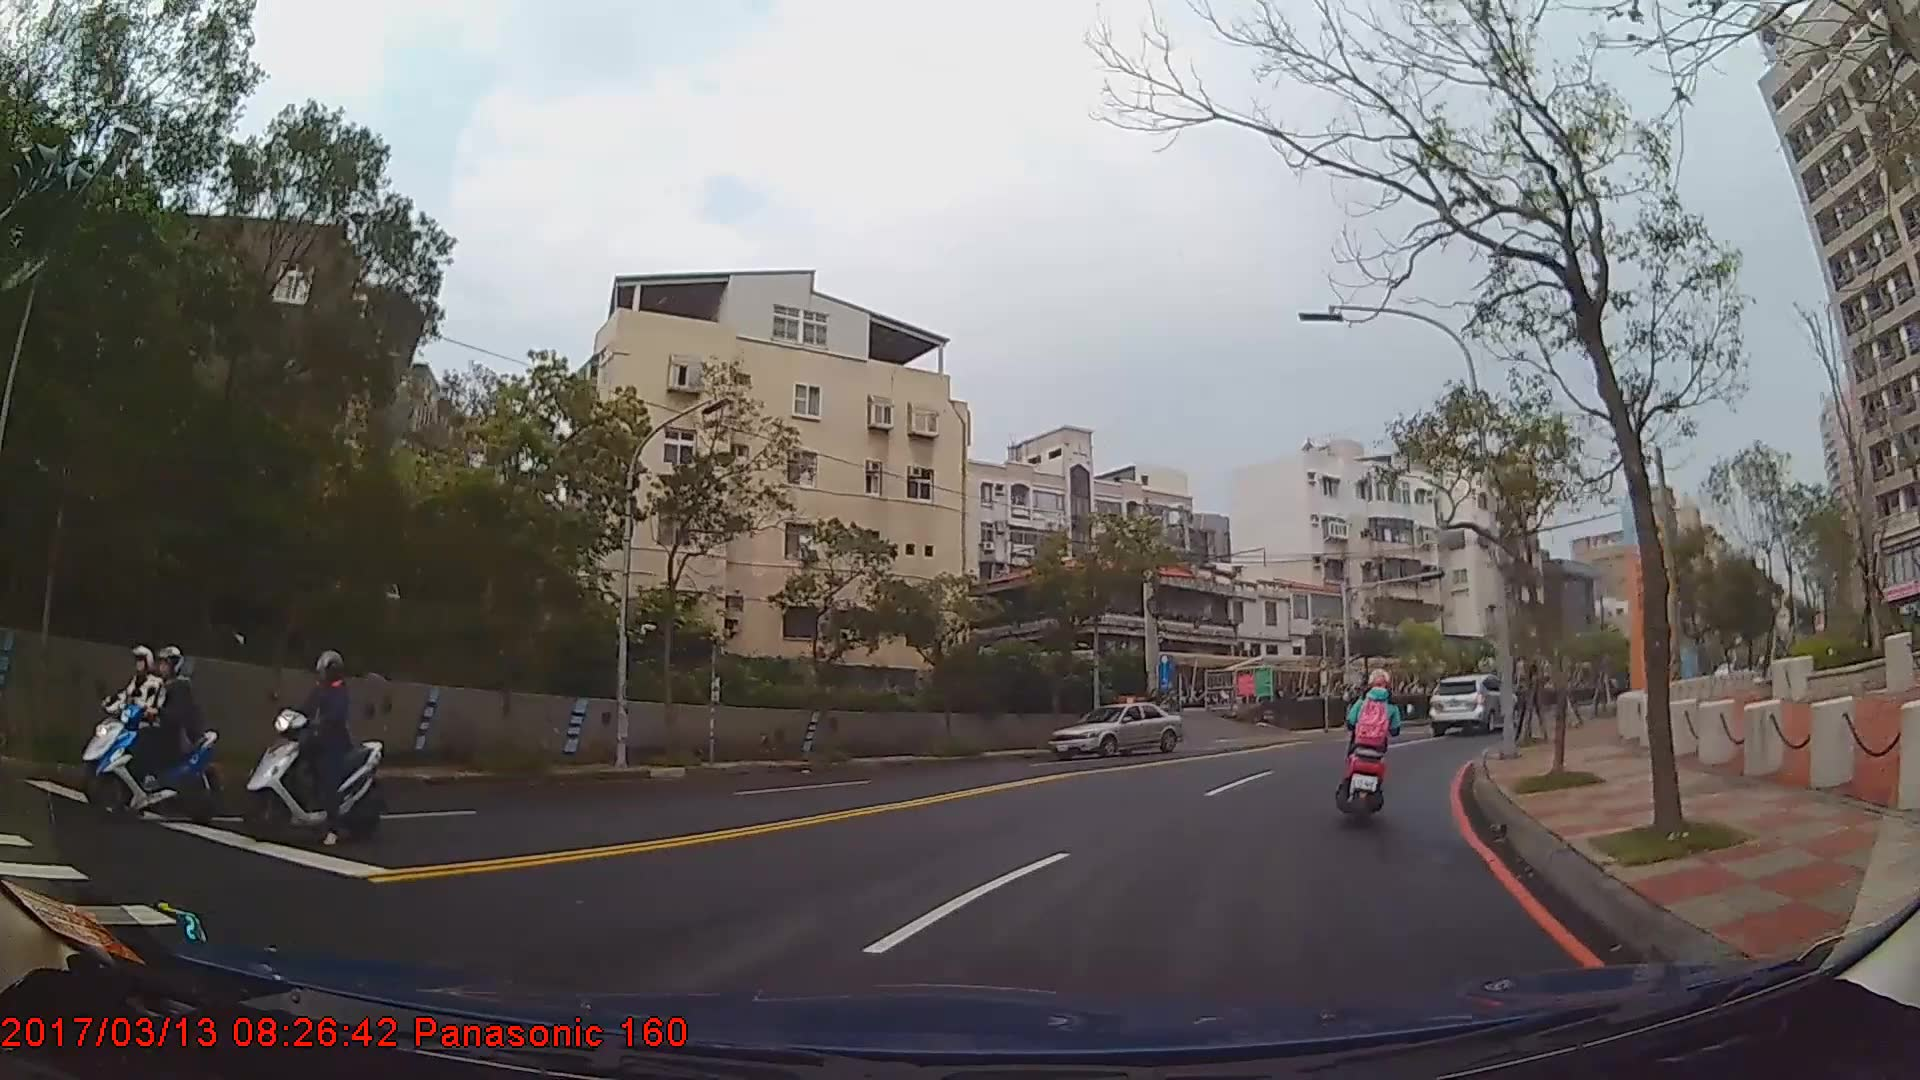rider: (247, 643, 382, 845), (98, 644, 210, 819), (86, 643, 183, 797), (1338, 669, 1402, 812)
vehicle: (1049, 700, 1181, 756), (1428, 671, 1520, 734)
